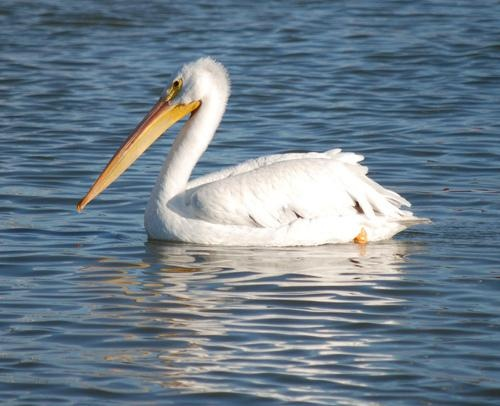bird: (75, 53, 425, 249)
